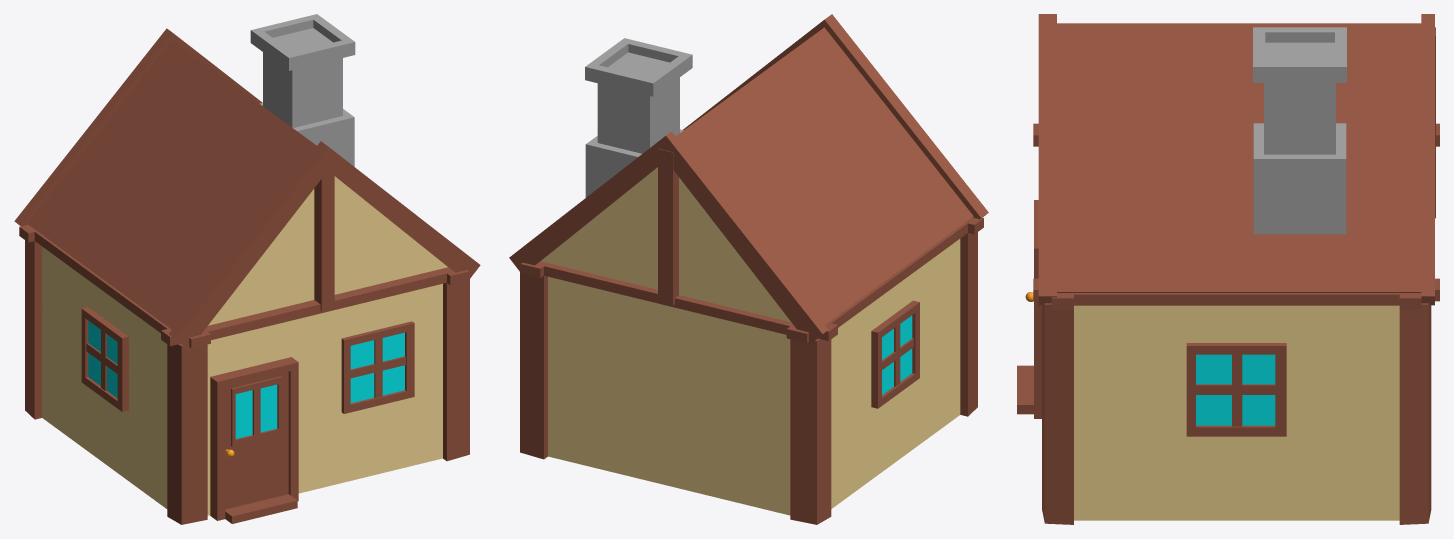
Rendered from Wooden House.fbx.
3 views of the same model, side by side, from view 1: azimuth 30°, elevation 25°; view 2: azimuth 150°, elevation 25°; view 3: azimuth 270°, elevation 25° (orthographic). The views are drawn at different scales.
Parts seen in each view (by area): view 1: Roof, House, Door, Chimney, Window 3, Window 2; view 2: House, Roof, Chimney, Window 2; view 3: Roof, House, Chimney, Window 1, Door.
Part boxes in pixels (<box>): Roof: <box>14,28,480,349</box>; House: <box>19,224,469,524</box>; Door: <box>210,357,298,523</box>; Chimney: <box>250,14,355,166</box>; Window 3: <box>341,321,414,413</box>; Window 2: <box>81,307,128,411</box>; House: <box>520,217,983,524</box>; Roof: <box>509,14,988,344</box>; Chimney: <box>585,38,692,197</box>; Window 2: <box>871,300,919,408</box>; Roof: <box>1038,14,1435,305</box>; House: <box>1033,123,1439,524</box>; Chimney: <box>1253,27,1346,234</box>; Window 1: <box>1186,343,1286,436</box>; Door: <box>1017,200,1041,418</box>.
Size of the model in its own units: 1467 by 1642 by 1433.
